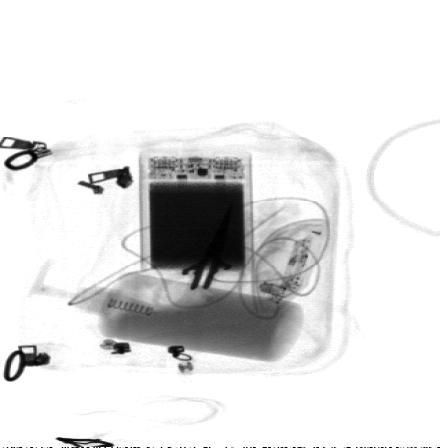Powerbank: (134, 147, 257, 278)
Scissors: (149, 196, 252, 311)
